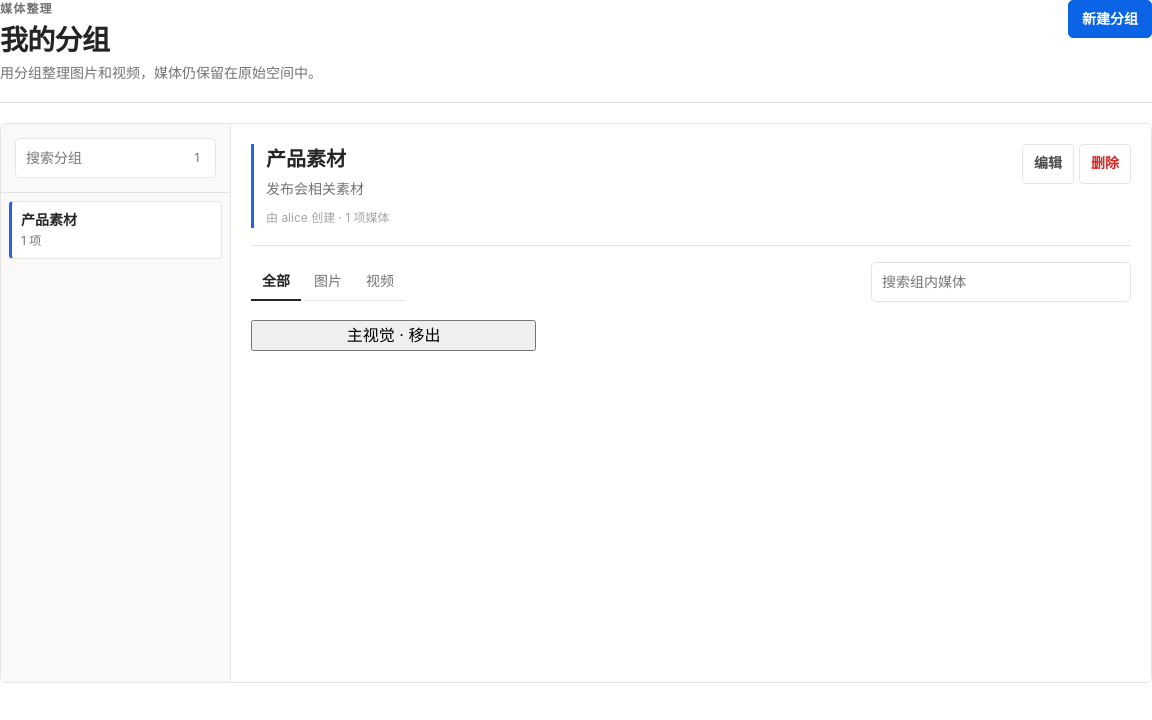
Test case: CollectionsView › loads a group and removes media without deleting the original asset
Click the button with class "remove-media" at (394, 335), box [251, 320, 536, 351]
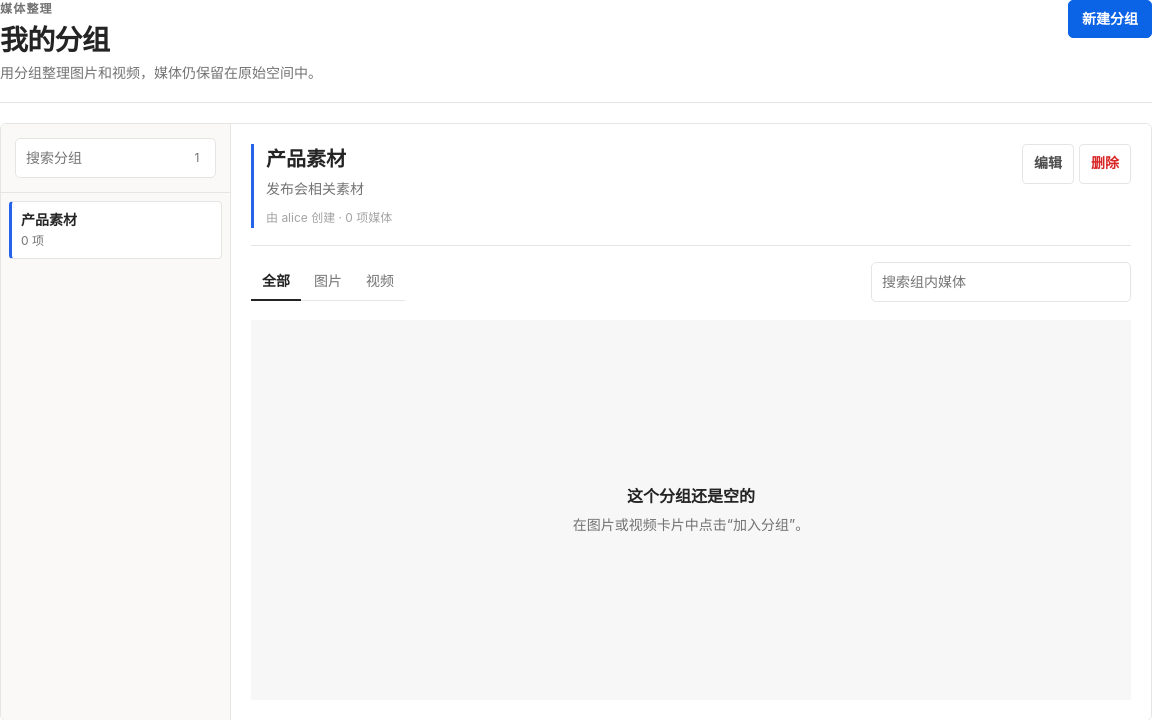
Now the text "这个分组还是空的" is shown, box [627, 484, 755, 509]
